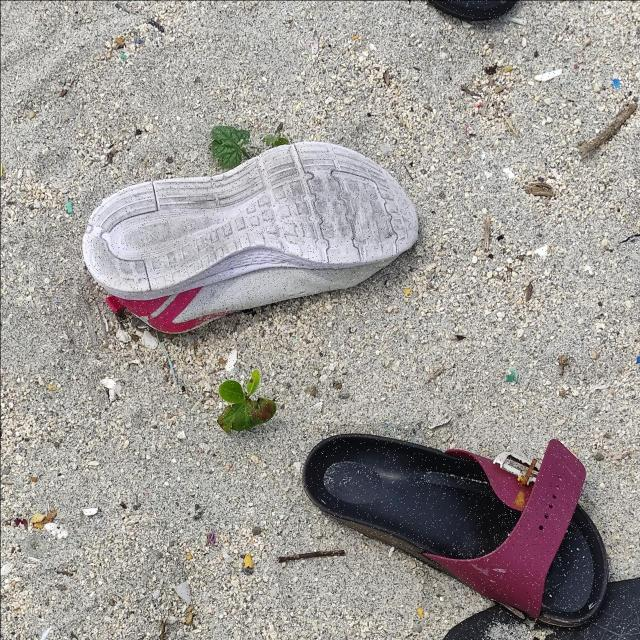rubber_waste: (84, 137, 421, 332), (302, 433, 611, 631)
